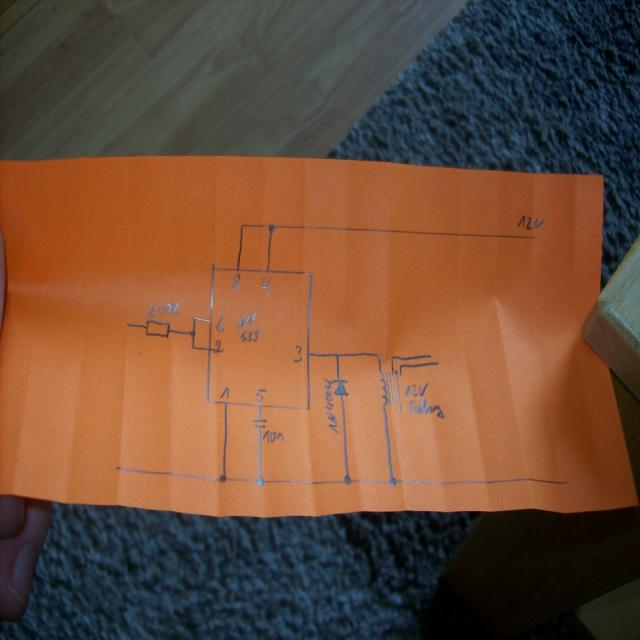capacitor: (252, 416, 268, 430)
diode: (332, 377, 350, 398)
junction: (342, 473, 352, 486), (255, 476, 266, 487), (388, 474, 398, 486), (218, 473, 227, 483), (267, 222, 275, 233), (189, 329, 196, 337), (192, 314, 198, 322), (389, 354, 395, 361), (375, 352, 381, 359), (190, 343, 196, 350), (334, 351, 340, 358), (238, 222, 244, 229), (399, 362, 403, 368)
resistor: (144, 318, 171, 339)
terminal: (114, 463, 123, 472), (434, 359, 441, 367), (564, 477, 570, 486), (530, 233, 536, 240), (427, 352, 433, 359), (124, 321, 130, 328), (397, 406, 402, 414)
text: (235, 311, 263, 344), (322, 377, 338, 434), (407, 396, 444, 418), (146, 300, 180, 318), (516, 213, 545, 231), (404, 381, 428, 396), (262, 429, 283, 444), (292, 343, 304, 364), (214, 314, 226, 334), (229, 272, 240, 292), (260, 275, 270, 296), (212, 338, 225, 354), (254, 387, 266, 402), (220, 385, 230, 400)
